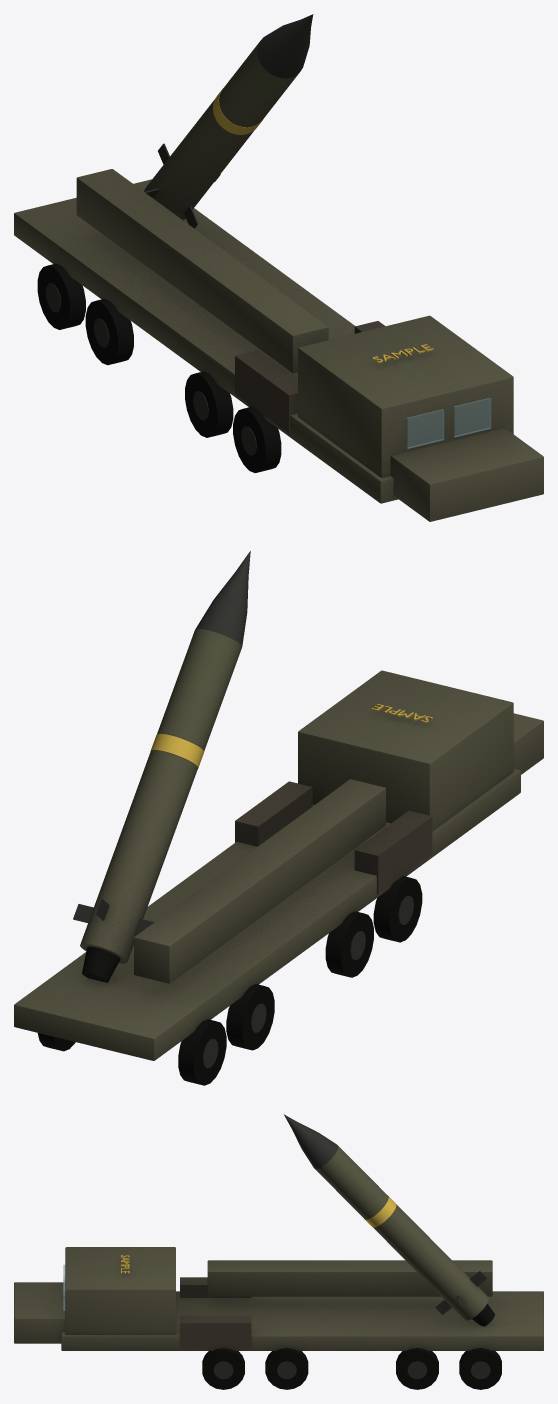
File: sphere-iskander-m.glb
3 renders of one model, top to bottom at view 1: azimuth 30°, elevation 25°; view 2: azimuth 150°, elevation 25°; view 3: azimuth 270°, elevation 25°, orthographic. The views are drawn at different scales.
Parts seen in each view (by area): view 1: frame, wind_0, wind_1; view 2: frame; view 3: frame.
Part boxes in pixels (x1,y1,x2,y2): frame: (14, 14, 543, 521); wind_0: (406, 409, 444, 448); wind_1: (453, 397, 491, 437); frame: (14, 551, 543, 1085); frame: (14, 1114, 543, 1389).
Size of the model in its own units: 3.03 by 7.27 by 13.4.
2 materials, 1 textured.
